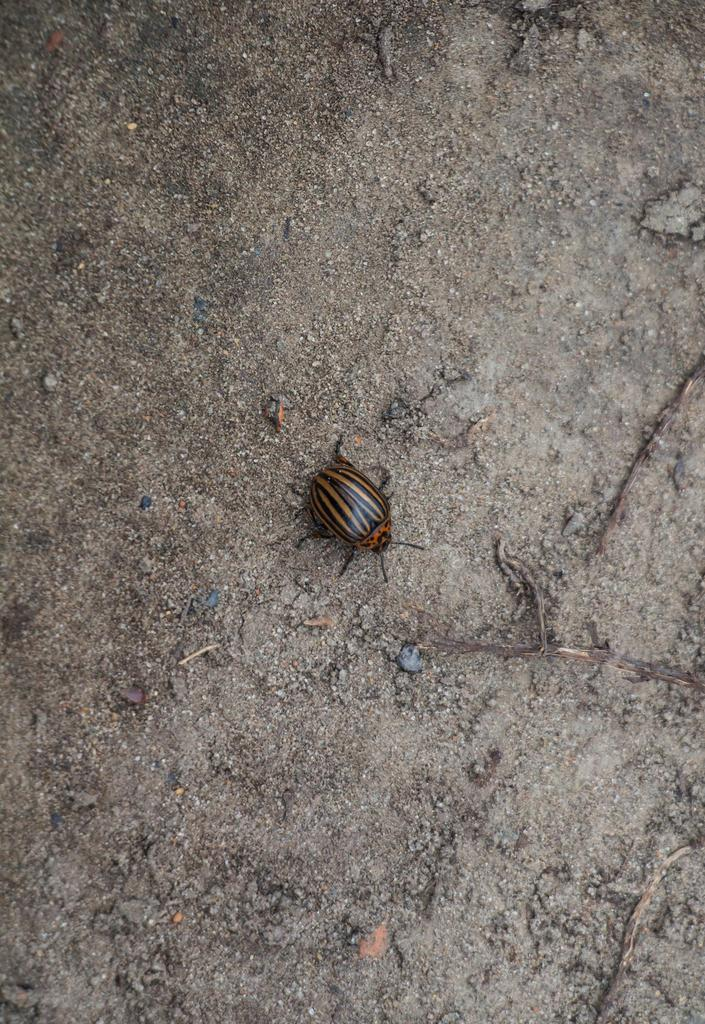potato_beetle: (255, 418, 451, 610)
